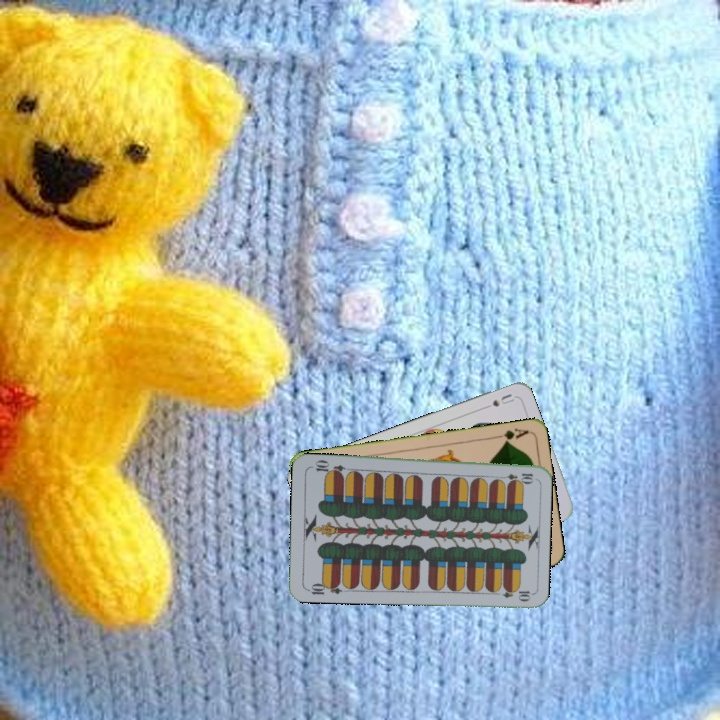E10: (303, 578, 344, 597), (495, 469, 536, 483)
GA: (490, 424, 531, 446)
SU: (488, 390, 517, 409)
